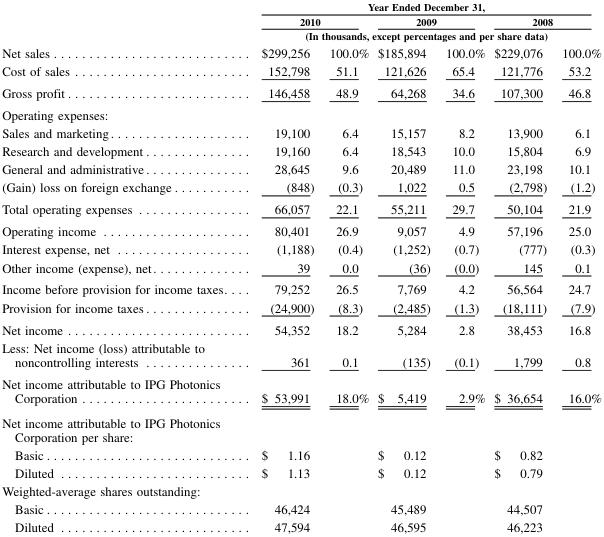table: (1, 0, 601, 534)
table column: (1, 0, 243, 534), (243, 0, 321, 534), (372, 0, 437, 534), (489, 0, 553, 534), (437, 0, 489, 534), (321, 0, 372, 534), (553, 0, 601, 534)
table column header: (1, 0, 601, 61)
table projected row header: (1, 409, 601, 445), (1, 103, 601, 123), (1, 481, 601, 499)
table row: (1, 372, 601, 409), (1, 409, 601, 445), (1, 338, 601, 372), (1, 81, 601, 103), (1, 197, 601, 219), (1, 61, 601, 81), (1, 103, 601, 123), (1, 177, 601, 197), (1, 219, 601, 239), (1, 258, 601, 278), (1, 278, 601, 298), (1, 298, 601, 318), (1, 318, 601, 338), (1, 239, 601, 258), (1, 43, 601, 61), (1, 123, 601, 141), (1, 141, 601, 159), (1, 159, 601, 177), (1, 445, 601, 463), (1, 463, 601, 481), (1, 481, 601, 499), (1, 499, 601, 517), (1, 517, 601, 534), (1, 13, 601, 28), (1, 28, 601, 43), (1, 0, 601, 13)
table spanning cell: (1, 0, 243, 61), (243, 28, 601, 43), (243, 0, 601, 13), (243, 13, 372, 28), (372, 13, 489, 28), (489, 13, 601, 28)
